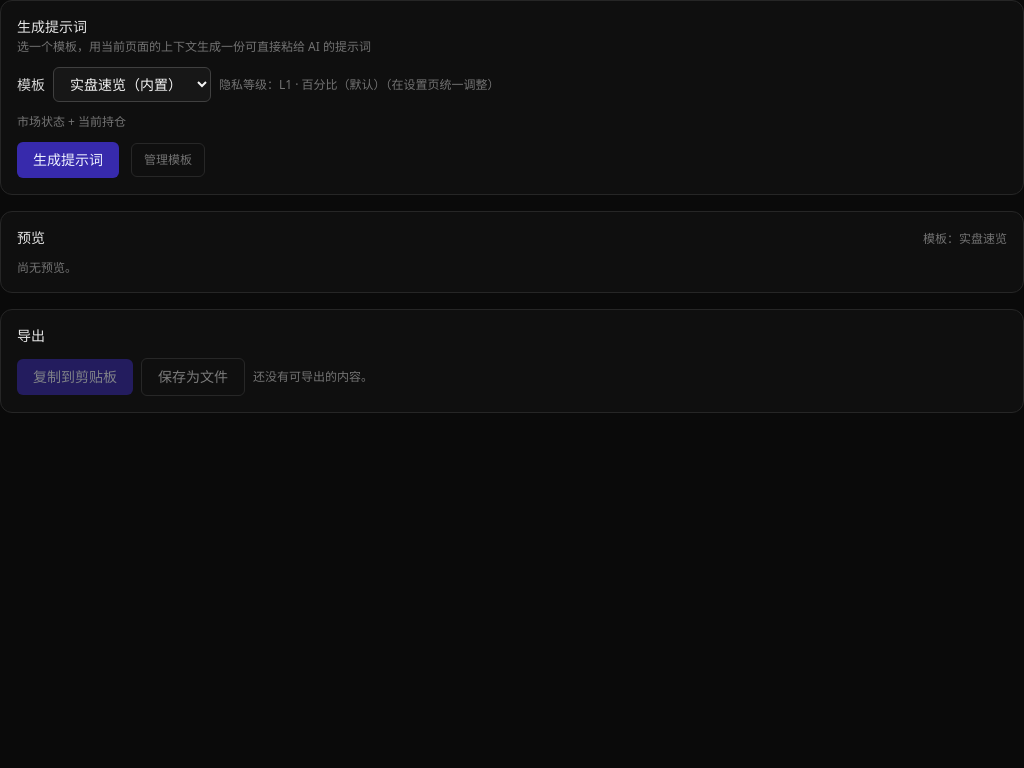
Test: PromptPanel 错误与入口 › 后端 Template 错误原样展示（变量名是改模板的唯一线索）
This screenshot has width=1024, height=768.
Click the button "生成提示词" at (68, 160), box [17, 142, 119, 178]
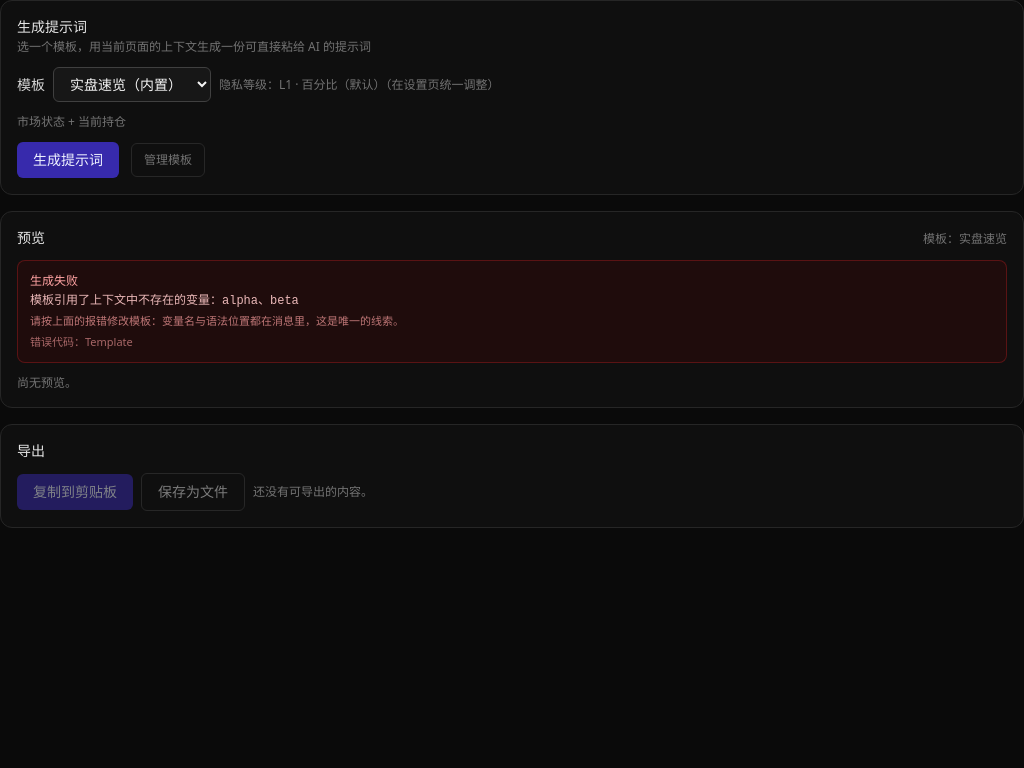
Now the text "生成失败" is shown, box [30, 272, 78, 289]
Now the text "模板引用了上下文中不存在的变量：alpha、beta" is shown, box [30, 294, 299, 308]
Now the text "alpha" is shown, box [30, 294, 299, 308]
